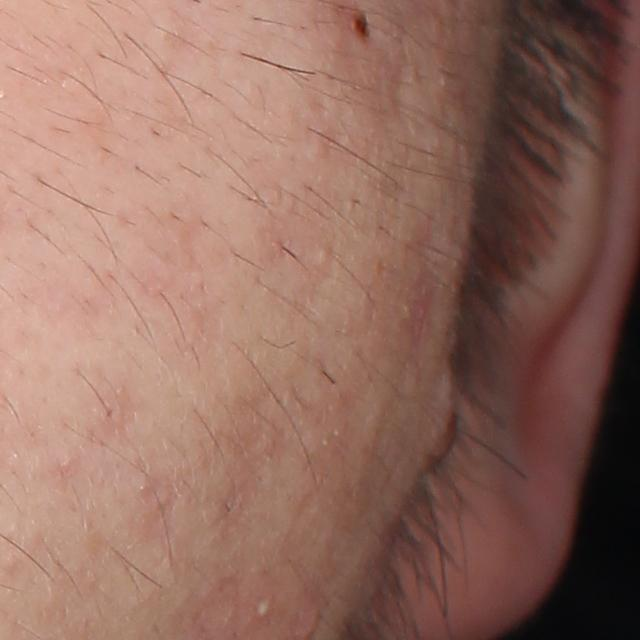comedo: (314, 246, 333, 273)
pustule: (253, 590, 278, 620)
